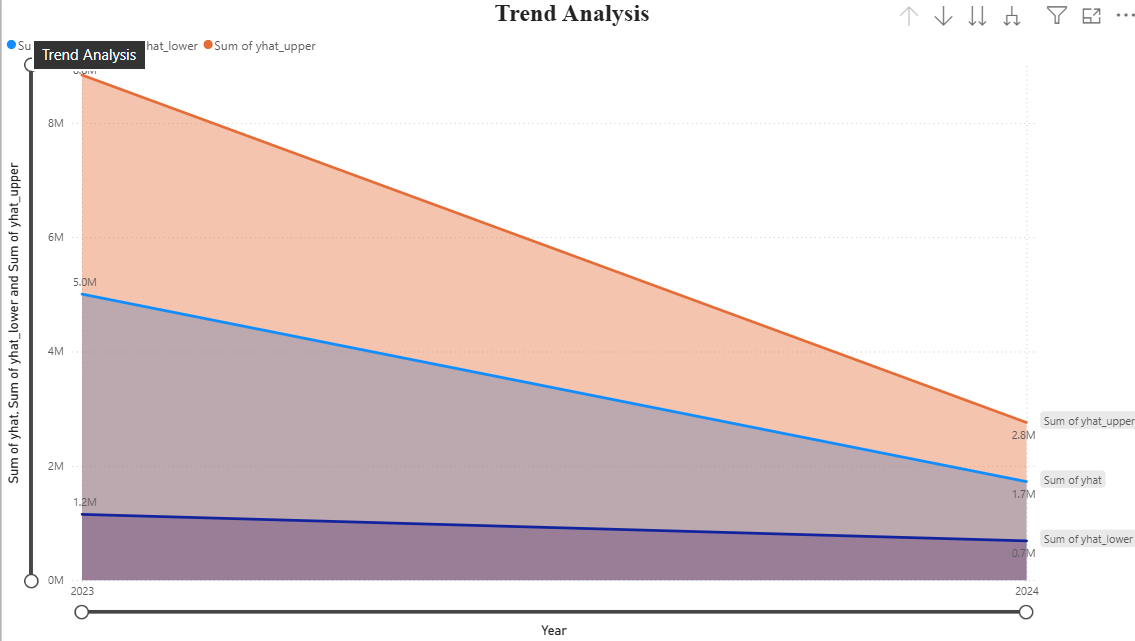

The page's visual inventory and layout, read from the dashboard file:
{"tool":"powerbi","page":{"name":"Page 2","canvas":[1280,720],"ordinal":1},"visuals":[{"type":"lineChart","title":"Trend Analysis","fields":{"Category":["forecast_output.ds.Variation.Date Hierarchy.Year","forecast_output.ds.Variation.Date Hierarchy.Quarter","forecast_output.ds.Variation.Date Hierarchy.Month","forecast_output.ds.Variation.Date Hierarchy.Day"],"Y":["Sum(forecast_output.yhat)","Sum(forecast_output.yhat_lower)","Sum(forecast_output.yhat_upper)"]},"box":[9.6,13.7,1252.8,706.7],"z":0}]}

Visuals, with their boxes in screenshot pixels (x1, y1, x2, y2):
"Trend Analysis" lineChart: (26, 12, 1083, 608)
